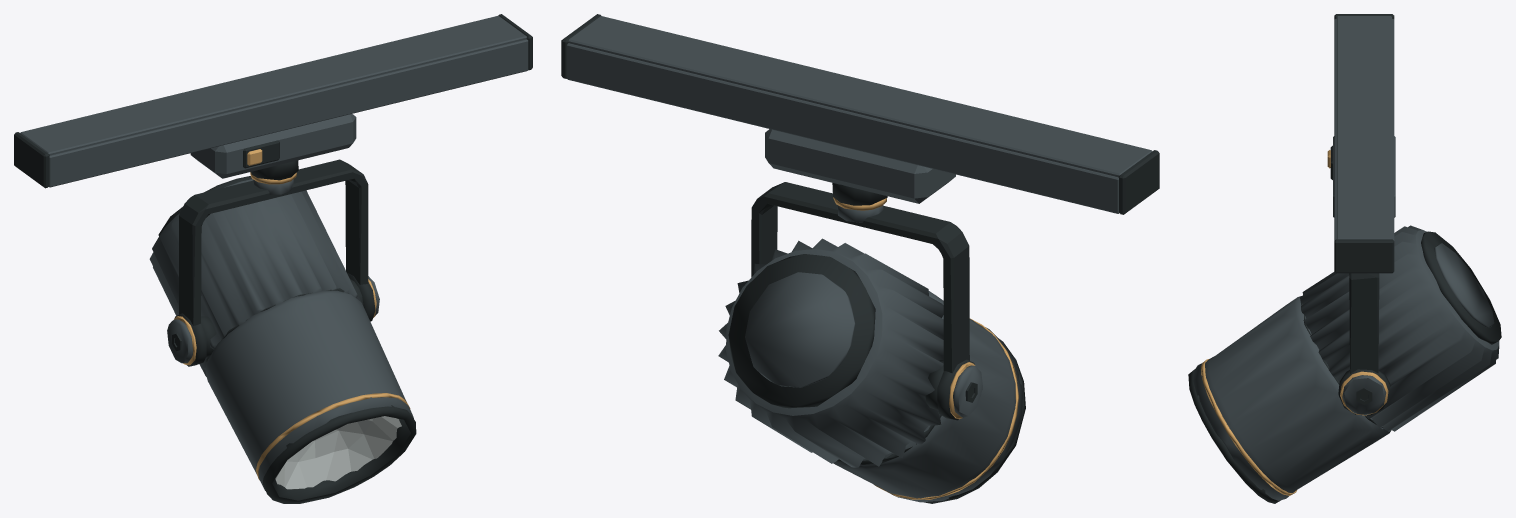
3 views of the same model, side by side, from view 1: azimuth 30°, elevation 25°; view 2: azimuth 150°, elevation 25°; view 3: azimuth 270°, elevation 25° (orthographic). The views are drawn at different scales.
Visible parts, largest first — view 1: Spotlight_L1; view 2: Spotlight_L1; view 3: Spotlight_L1.
Boxes of the visible parts, x1,y1,x2,y2 form: Spotlight_L1: (14,14,532,503); Spotlight_L1: (561,14,1159,503); Spotlight_L1: (1188,14,1501,503).
Size of the model in its own units: 0.36 by 0.2702 by 0.2089.
